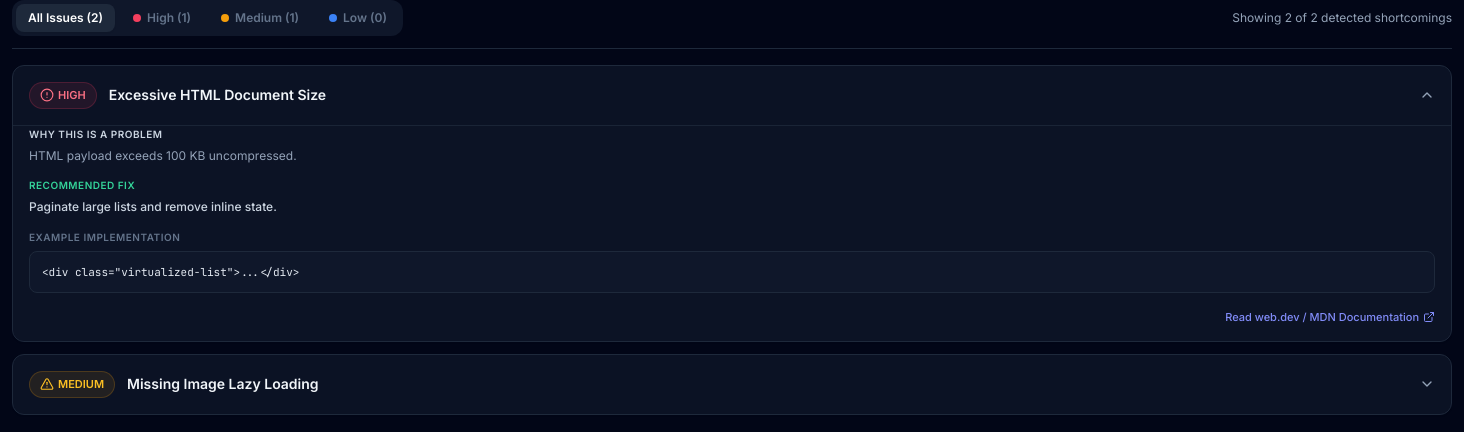
Test: ShortcomingList Component › filters shortcomings by severity
Click 'High' filter tab
Click the button "High (1)" at (162, 18), box x1=121 y1=4 x2=203 y2=32
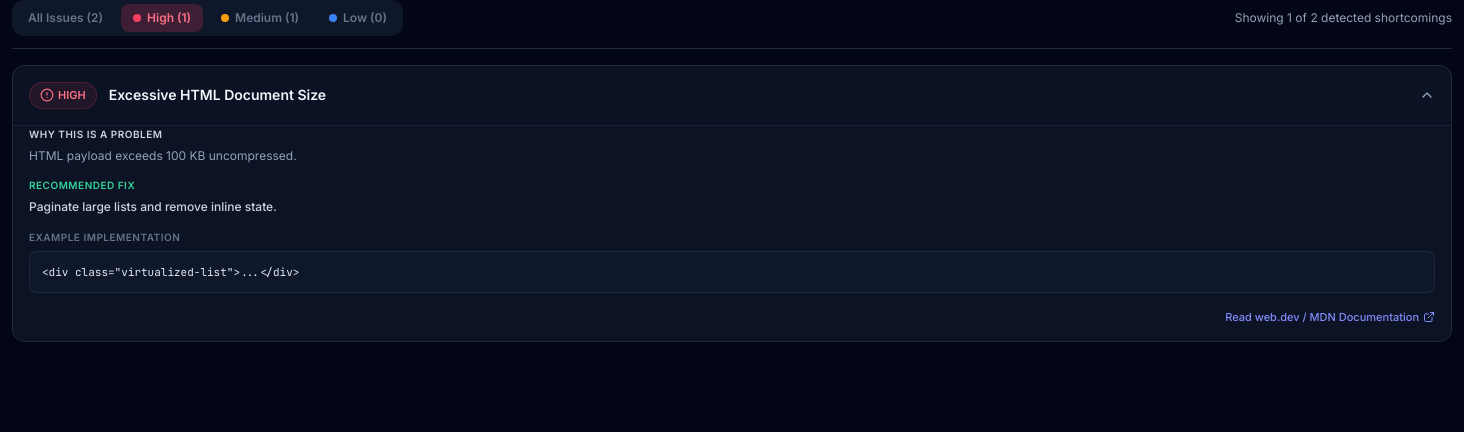
Check: the heading "Excessive HTML Document Size" is shown, box x1=109 y1=85 x2=326 y2=105
Check: the button "Missing Image Lazy Loading" is gone
